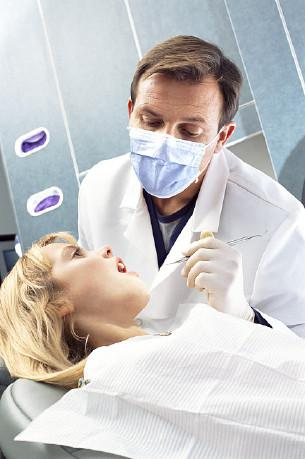NONE: (57, 239, 152, 310)
OK: (124, 94, 230, 200)
